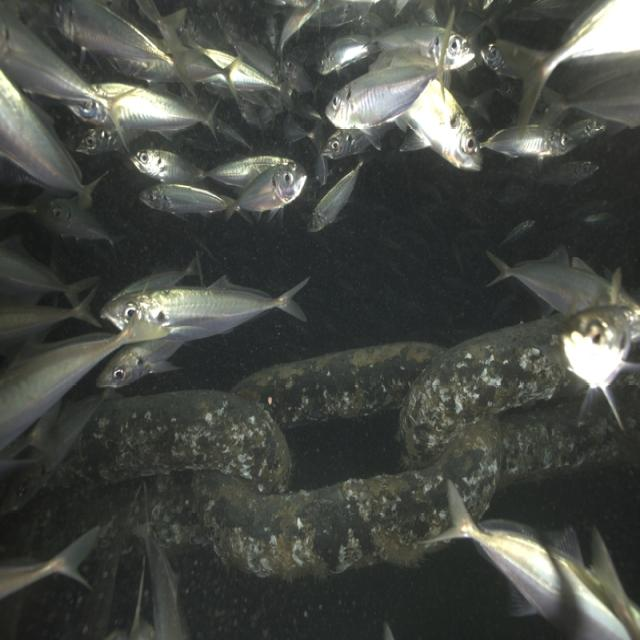ChainLink: (194, 424, 500, 579), (400, 315, 640, 483), (60, 390, 291, 492), (235, 344, 441, 425), (149, 474, 206, 549)
